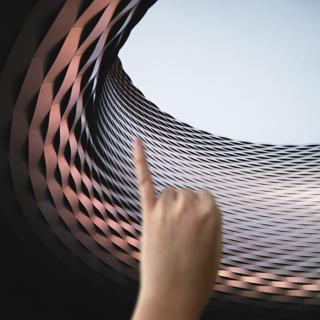FINE: (125, 136, 227, 302)
